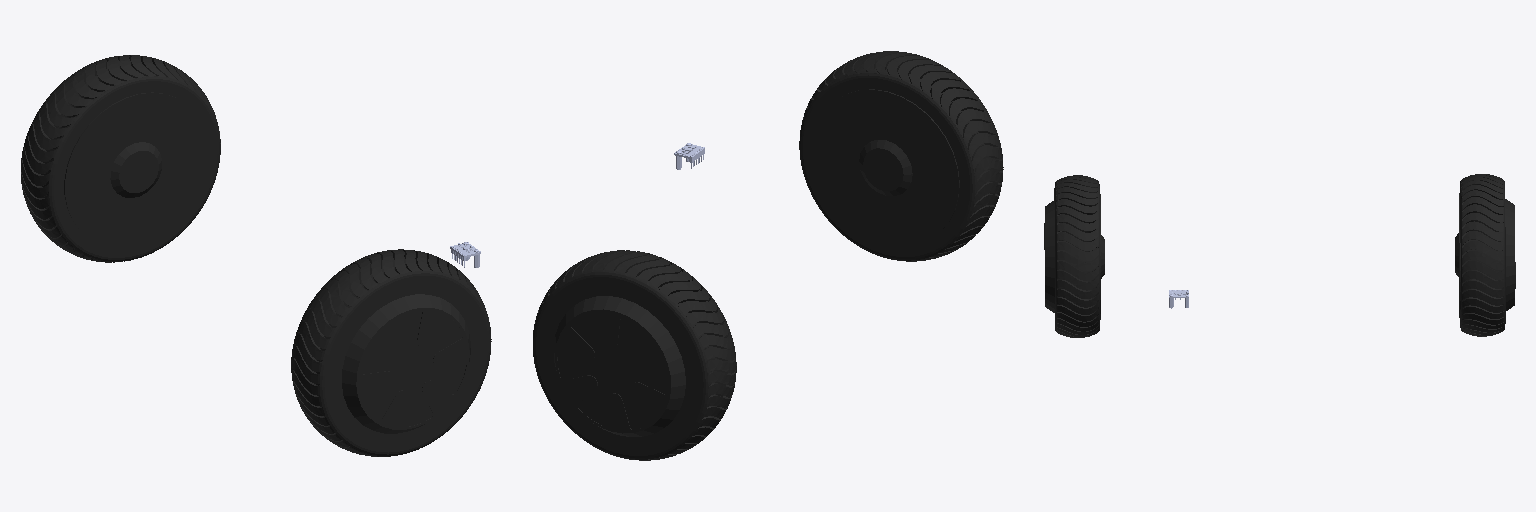
The robot description file, URDF, robot "urdf5":
<?xml version="1.0" encoding="utf-8"?>
<!-- This URDF was automatically created by SolidWorks to URDF Exporter! Originally created by [author] ([email redacted]) 
     Commit Version: 1.6.0-4-g7f85cfe  Build Version: 1.6.7995.38578
     For more information, please see http://wiki.ros.org/sw_urdf_exporter -->
<robot
  name="urdf5">
  <link
    name="base_link">
    <inertial>
      <origin
        xyz="0.0442825897088744 -0.00712183030185704 0.0468904111246286"
        rpy="0 0 0" />
      <mass
        value="7.2408359015656" />
      <inertia
        ixx="0.0234333185987862"
        ixy="-0.000228866626833858"
        ixz="0.000468094989719245"
        iyy="0.0514787313028348"
        iyz="-5.45232299889735E-07"
        izz="0.0674713703809658" />
    </inertial>
    <visual>
      <origin
        xyz="0 0 0"
        rpy="0 0 0" />
      <geometry>
        <mesh
          filename="package://urdf5/meshes/base_link.STL" />
      </geometry>
      <material
        name="">
        <color
          rgba="0.752941176470588 0.752941176470588 0.752941176470588 1" />
      </material>
    </visual>
    <collision>
      <origin
        xyz="0 0 0"
        rpy="0 0 0" />
      <geometry>
        <mesh
          filename="package://urdf5/meshes/base_link.STL" />
      </geometry>
    </collision>
  </link>
  <link
    name="lidar_link">
    <inertial>
      <origin
        xyz="0.014838317136784 0.00044768343076923 -0.0211536208200515"
        rpy="0 0 0" />
      <mass
        value="0.0312409127404857" />
      <inertia
        ixx="8.88026370808521E-06"
        ixy="-1.77664494264145E-07"
        ixz="1.13027679908937E-07"
        iyy="1.44910018203743E-05"
        iyz="3.46076114959353E-08"
        izz="2.25289099518335E-05" />
    </inertial>
    <visual>
      <origin
        xyz="0 0 0"
        rpy="0 0 0" />
      <geometry>
        <mesh
          filename="package://urdf5/meshes/lidar_link.STL" />
      </geometry>
      <material
        name="">
        <color
          rgba="0.792156862745098 0.819607843137255 0.933333333333333 1" />
      </material>
    </visual>
    <collision>
      <origin
        xyz="0 0 0"
        rpy="0 0 0" />
      <geometry>
        <mesh
          filename="package://urdf5/meshes/lidar_link.STL" />
      </geometry>
    </collision>
  </link>
  <joint
    name="lidar"
    type="fixed">
    <origin
      xyz="0.155727946311183 0.00119138551322162 0.14609999999979"
      rpy="0 0 0" />
    <parent
      link="base_link" />
    <child
      link="lidar_link" />
    <axis
      xyz="0 0 0" />
  </joint>
  <link
    name="imu_link">
    <inertial>
      <origin
        xyz="-0.000128980115822963 -0.000191495598159841 -0.00384070508905809"
        rpy="0 0 0" />
      <mass
        value="0.000999898118986824" />
      <inertia
        ixx="2.50447716935414E-08"
        ixy="1.03965056246916E-10"
        ixz="-2.68560481615519E-14"
        iyy="1.24513535508529E-08"
        iyz="-1.18565423376335E-14"
        izz="3.06376353115898E-08" />
    </inertial>
    <visual>
      <origin
        xyz="0 0 0"
        rpy="0 0 0" />
      <geometry>
        <mesh
          filename="package://urdf5/meshes/imu_link.STL" />
      </geometry>
      <material
        name="">
        <color
          rgba="0.792156862745098 0.819607843137255 0.933333333333333 1" />
      </material>
    </visual>
    <collision>
      <origin
        xyz="0 0 0"
        rpy="0 0 0" />
      <geometry>
        <mesh
          filename="package://urdf5/meshes/imu_link.STL" />
      </geometry>
    </collision>
  </link>
  <joint
    name="imu"
    type="fixed">
    <origin
      xyz="0.126490153720713 -0.100459462377462 0.0330199999990641"
      rpy="0 0 0" />
    <parent
      link="base_link" />
    <child
      link="imu_link" />
    <axis
      xyz="0 0 0" />
  </joint>
  <link
    name="right_wheel_link">
    <inertial>
      <origin
        xyz="0.000243587829778624 -0.0295000990455643 8.01156363472444E-11"
        rpy="0 0 0" />
      <mass
        value="0.981706650902448" />
      <inertia
        ixx="0.0016529958590619"
        ixy="-1.01208406970345E-05"
        ixz="1.94991242531129E-09"
        iyy="0.00287861061054269"
        iyz="1.72664457146062E-11"
        izz="0.00165290525855945" />
    </inertial>
    <visual>
      <origin
        xyz="0 0 0"
        rpy="0 0 0" />
      <geometry>
        <mesh
          filename="package://urdf5/meshes/right_wheel_link.STL" />
      </geometry>
      <material
        name="">
        <color
          rgba="0.2 0.2 0.2 1" />
      </material>
    </visual>
    <collision>
      <origin
        xyz="0 0 0"
        rpy="0 0 0" />
      <geometry>
        <mesh
          filename="package://urdf5/meshes/right_wheel_link.STL" />
      </geometry>
    </collision>
  </link>
  <joint
    name="right_wheel"
    type="continuous">
    <origin
      xyz="0.00163679036643538 -0.174956642830885 0.0149999999997888"
      rpy="0 0 0" />
    <parent
      link="base_link" />
    <child
      link="right_wheel_link" />
    <axis
      xyz="-0.00825691107326283 0.999965911128739 0" />
  </joint>
  <link
    name="left_wheel_link">
    <inertial>
      <origin
        xyz="-0.000243587829778402 0.0295000990455643 8.01156918583956E-11"
        rpy="0 0 0" />
      <mass
        value="0.981706650902437" />
      <inertia
        ixx="0.0016529958291508"
        ixy="-1.01208409419746E-05"
        ixz="-2.00288369735192E-09"
        iyy="0.00287861061054065"
        iyz="-1.77037226147385E-11"
        izz="0.00165290528847253" />
    </inertial>
    <visual>
      <origin
        xyz="0 0 0"
        rpy="0 0 0" />
      <geometry>
        <mesh
          filename="package://urdf5/meshes/left_wheel_link.STL" />
      </geometry>
      <material
        name="">
        <color
          rgba="0.2 0.2 0.2 1" />
      </material>
    </visual>
    <collision>
      <origin
        xyz="0 0 0"
        rpy="0 0 0" />
      <geometry>
        <mesh
          filename="package://urdf5/meshes/left_wheel_link.STL" />
      </geometry>
    </collision>
  </link>
  <joint
    name="left_wheel"
    type="continuous">
    <origin
      xyz="-0.00125312850920878 0.175031426064171 0.0149999999997889"
      rpy="0 0 0" />
    <parent
      link="base_link" />
    <child
      link="left_wheel_link" />
    <axis
      xyz="0.00825691107326281 -0.999965911128739 0" />
  </joint>
</robot>

--- Facts derived from the render (not from the file) ---
Views: 3 orthographic renders of the robot side by side, from view 1: azimuth 30°, elevation 25°; view 2: azimuth 150°, elevation 25°; view 3: azimuth 270°, elevation 25°.
Model urdf5 with 5 links and 4 joints (2 continuous, 2 fixed), rooted at base_link, posed every joint at zero.
Visible links, largest first — view 1: right_wheel_link, left_wheel_link; view 2: right_wheel_link, left_wheel_link; view 3: right_wheel_link, left_wheel_link.
Boxes of the visible links, x1,y1,x2,y2 form: right_wheel_link: (291,249,491,456); left_wheel_link: (21,55,220,262); right_wheel_link: (799,51,1003,261); left_wheel_link: (533,250,736,460); right_wheel_link: (1044,175,1104,337); left_wheel_link: (1455,174,1515,336).
Bounding box of the posed robot: 0.2165 × 0.4708 × 0.163 m (x, y, z).
Meshes: 5 distinct files referenced, 3 mesh visuals loaded (3 binary STL); not drawn: 2 (reference not matched to a file when rendering).